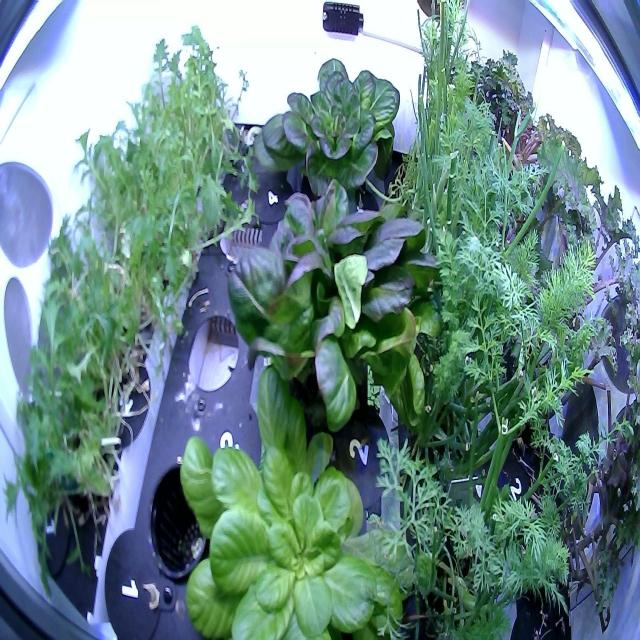Ready: (227, 138, 449, 472), (242, 46, 410, 234)
empty_pod: (144, 453, 220, 589), (182, 304, 244, 408), (214, 189, 266, 276)
young: (169, 356, 415, 640)
